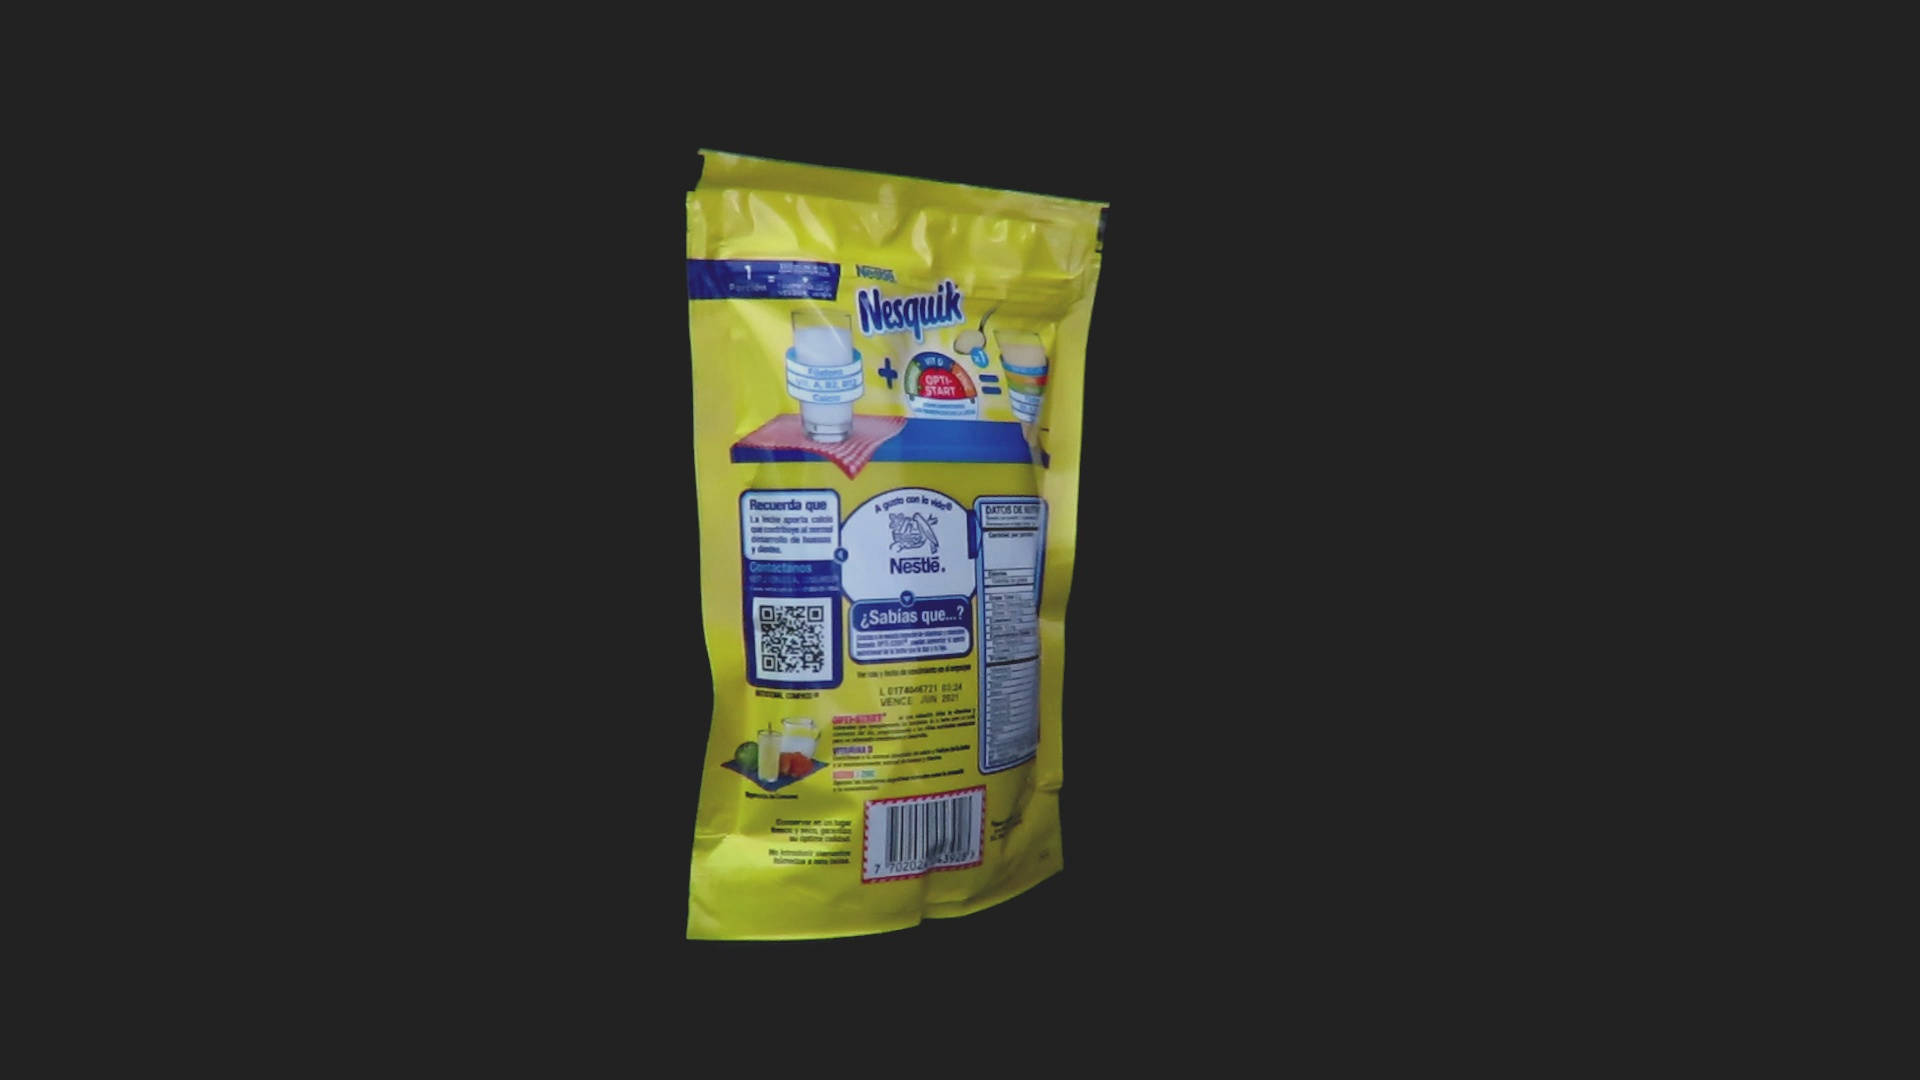COL0170306DYP20000: (680, 142, 1116, 947)
